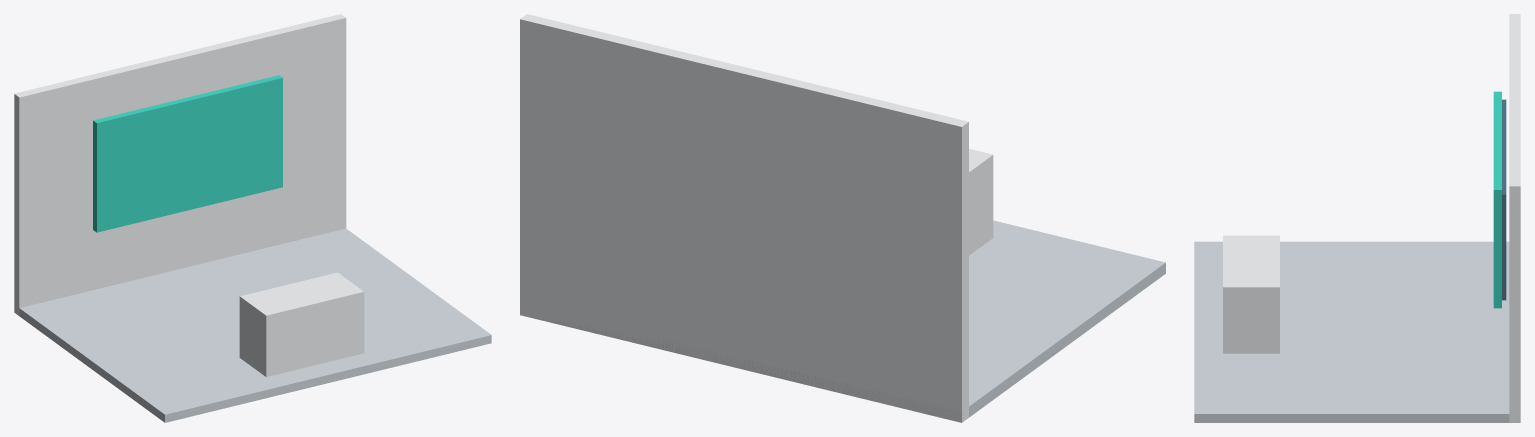
The picture shows the model from 3 angles, left to right: view 1: azimuth 30°, elevation 25°; view 2: azimuth 150°, elevation 25°; view 3: azimuth 270°, elevation 25°; orthographic projection. The views are drawn at different scales.
Visible parts, largest first — view 1: Exhibition Booth Concept; view 2: Exhibition Booth Concept; view 3: Exhibition Booth Concept.
Boxes of the visible parts, x1,y1,x2,y2 form: Exhibition Booth Concept: [14, 14, 491, 422]; Exhibition Booth Concept: [520, 14, 1165, 422]; Exhibition Booth Concept: [1194, 14, 1520, 422].
Bounding box in the file's own units: 5 × 3.2 × 4.
